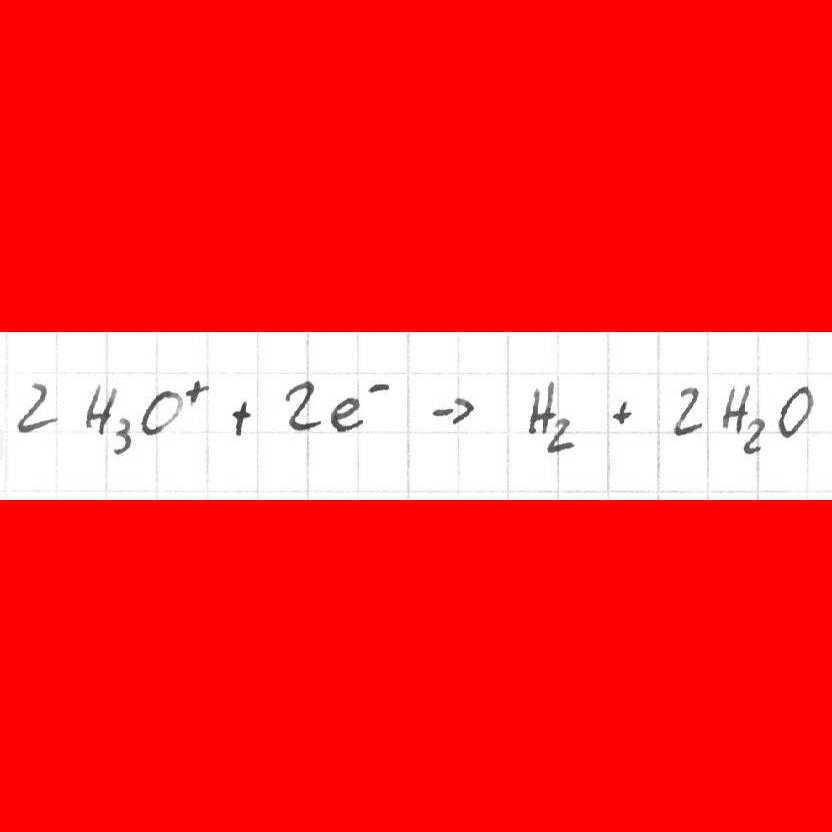Char: (17, 378, 58, 436), (775, 382, 813, 441), (284, 376, 321, 435), (141, 388, 181, 436), (719, 380, 752, 436), (84, 382, 117, 436), (525, 379, 554, 438), (430, 392, 476, 428), (672, 386, 704, 436), (326, 393, 365, 434), (545, 417, 576, 452), (230, 396, 252, 439), (742, 416, 766, 455), (111, 416, 133, 454), (185, 376, 211, 407), (609, 397, 632, 429), (365, 379, 392, 396)
